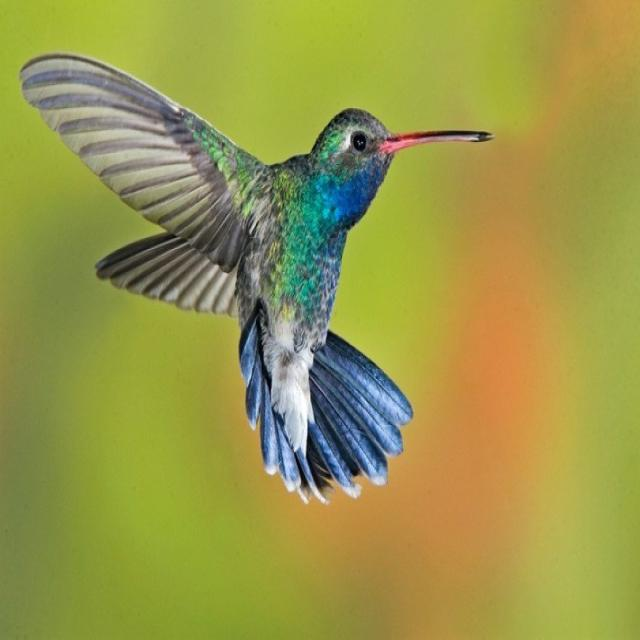Humming Bird: (42, 54, 500, 492)
